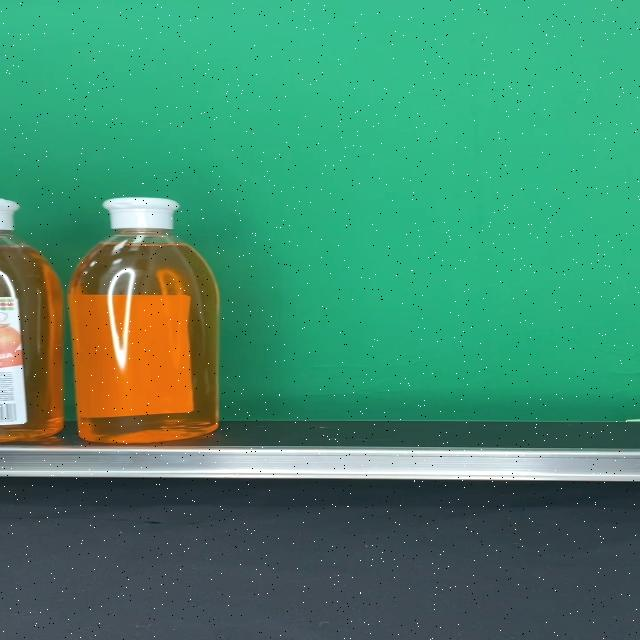Bottle: (68, 198, 218, 443)
Cap: (101, 198, 180, 230)
